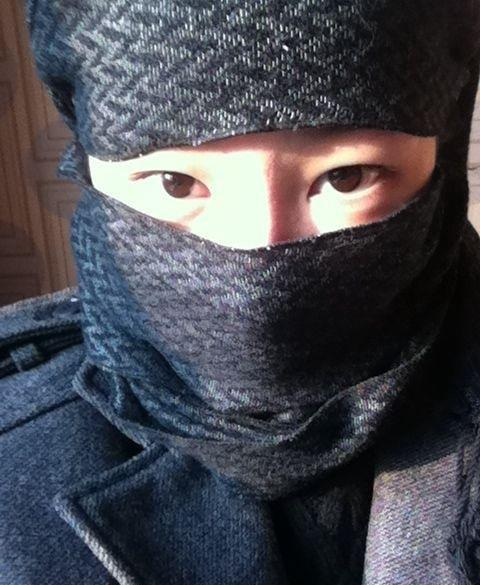OK: (100, 96, 431, 427)
